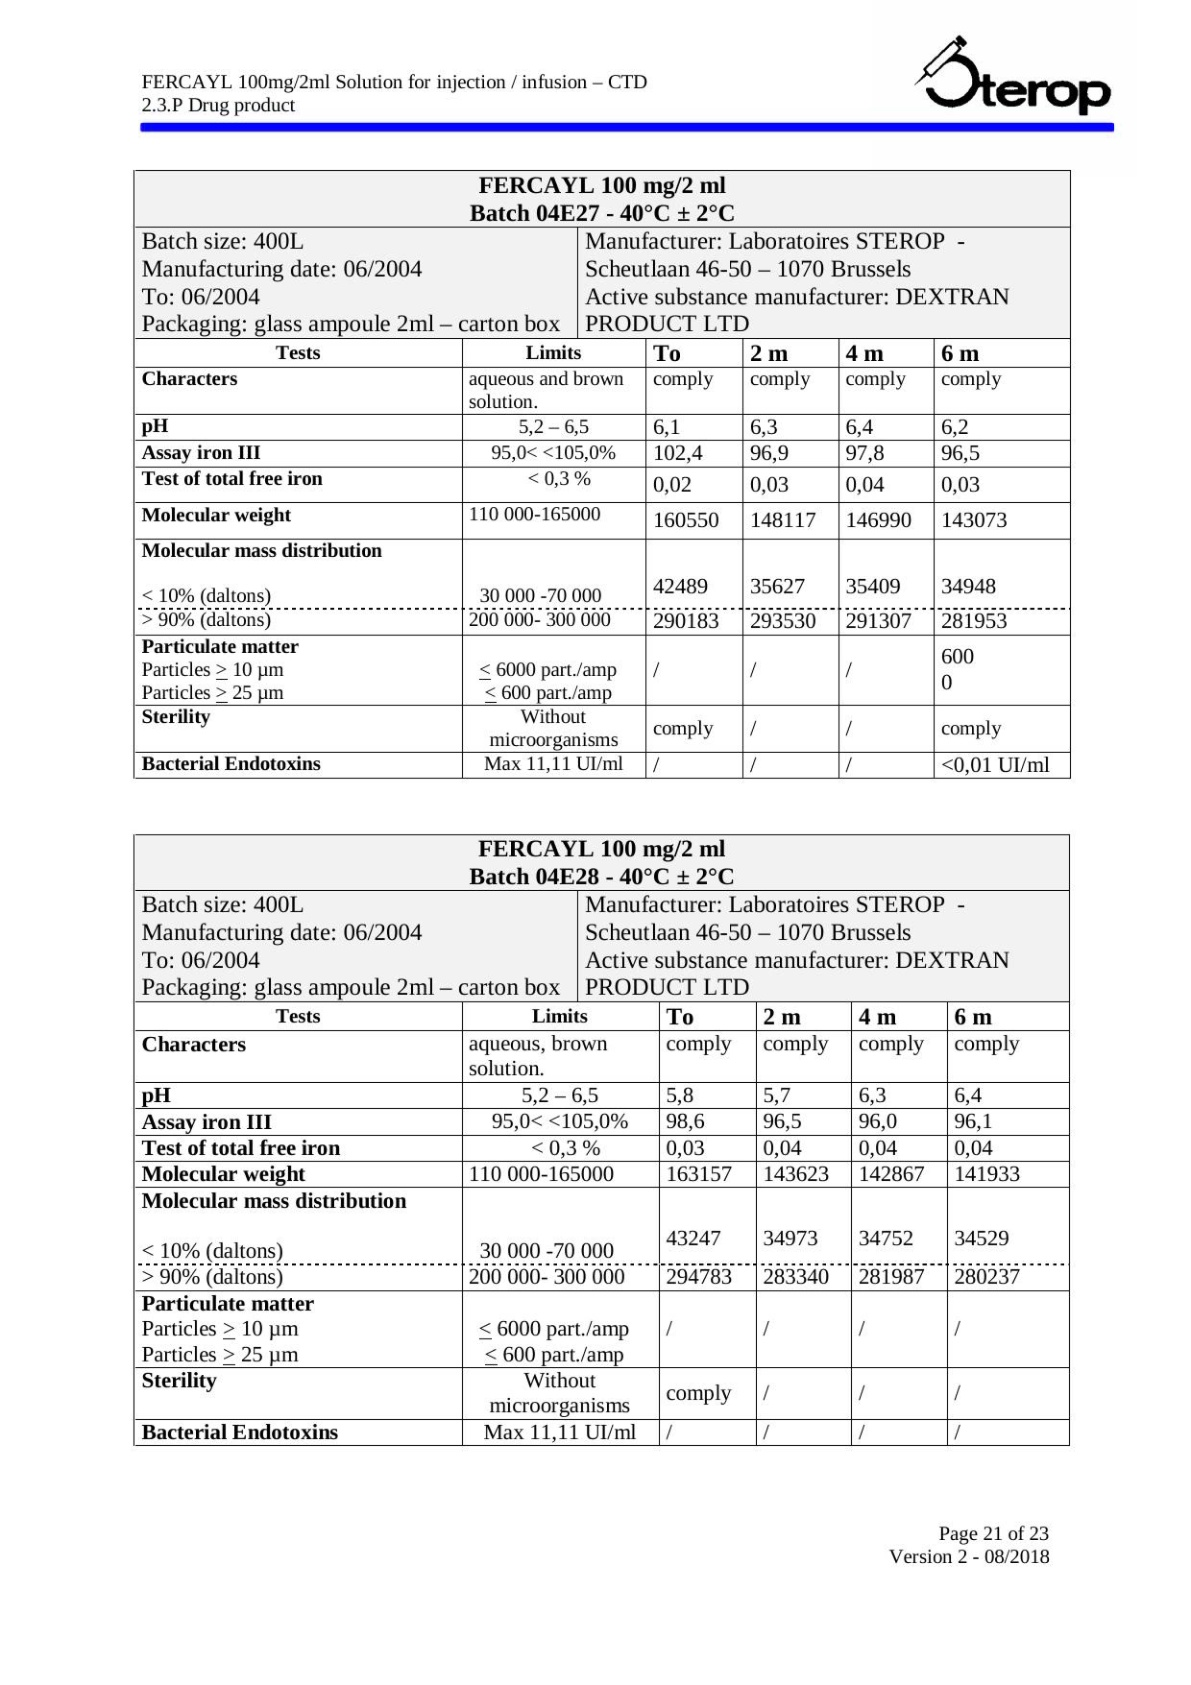merged_cells: (131, 833, 1070, 1446), (131, 168, 1072, 779)
